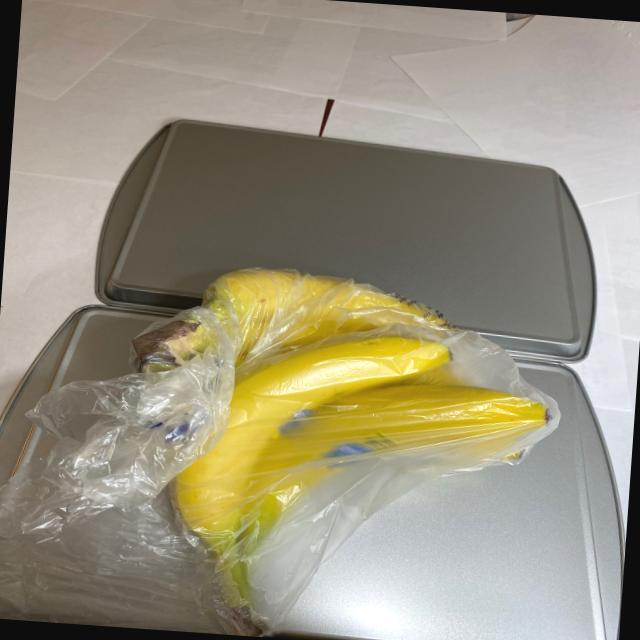banana: (110, 250, 565, 640)
